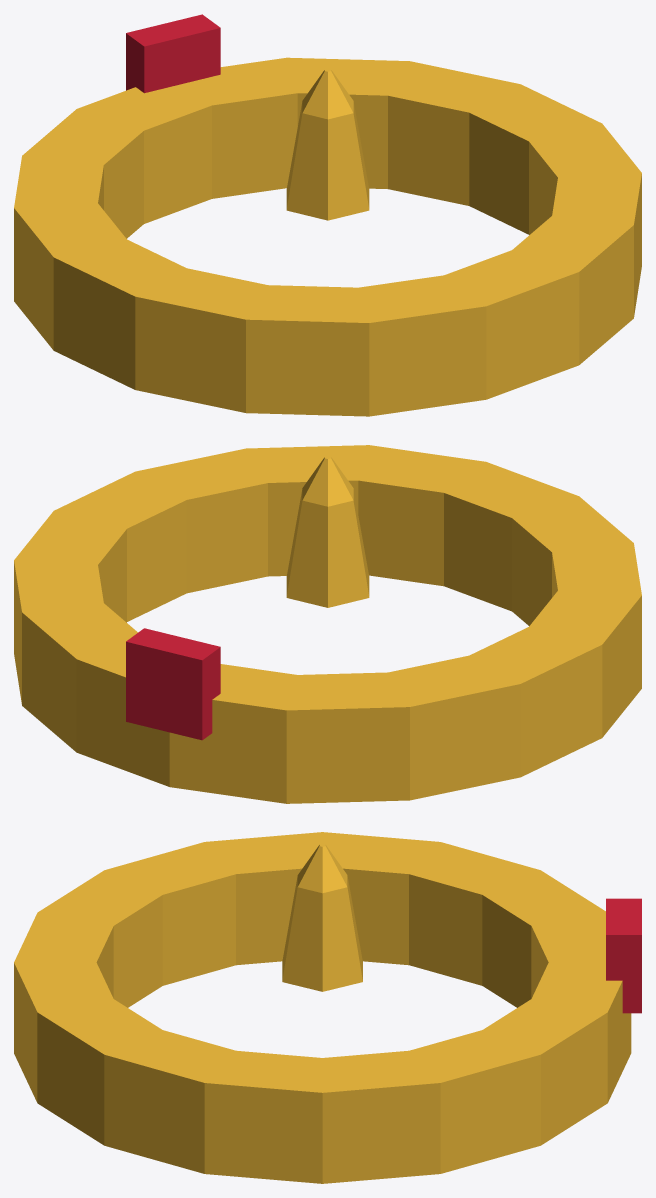
Rendered from royal_crown.obj.
The picture shows the model from 3 angles, top to bottom: view 1: azimuth 30°, elevation 25°; view 2: azimuth 150°, elevation 25°; view 3: azimuth 270°, elevation 25°; orthographic projection. The views are drawn at different scales.
Parts seen in each view (by area): view 1: RoyalCrown; view 2: RoyalCrown; view 3: RoyalCrown.
Boxes of the visible parts, <box> form: RoyalCrown: <box>14,14,641,416</box>; RoyalCrown: <box>14,445,641,803</box>; RoyalCrown: <box>14,832,641,1183</box>.
Bounding box in the file's own units: 1.72 × 0.64 × 1.75.
